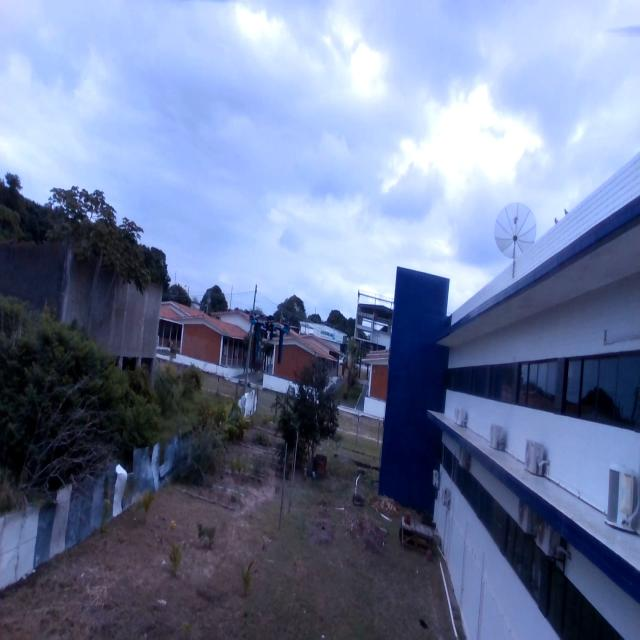-uav-: (244, 307, 294, 366)
